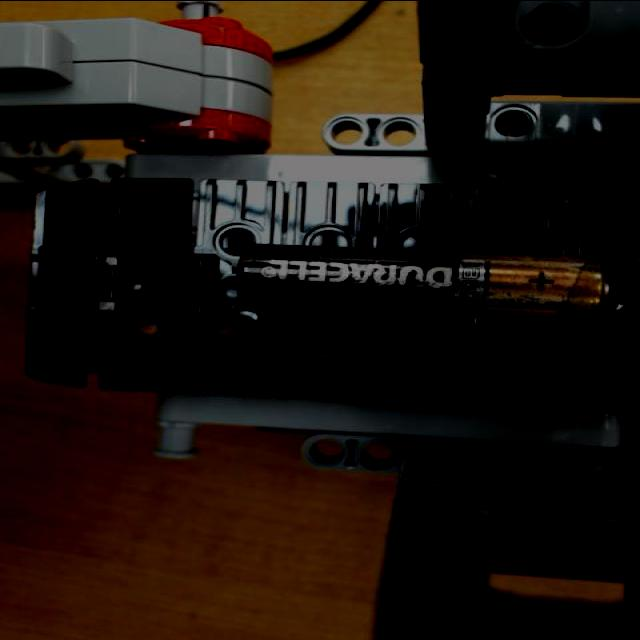AAA: (236, 254, 612, 314)
